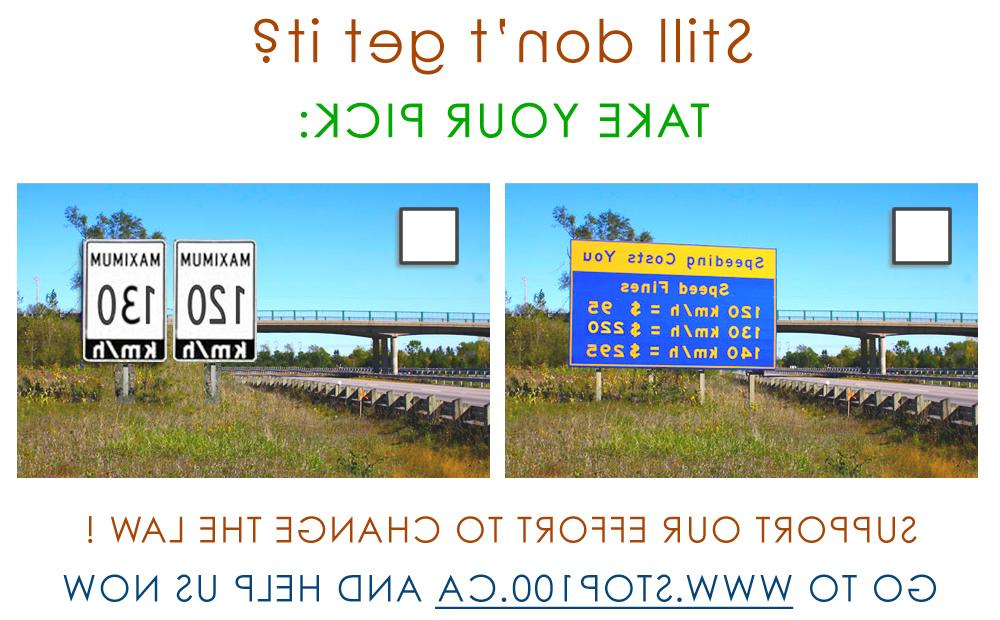speed limit sign: (171, 238, 257, 366), (81, 236, 167, 364)
